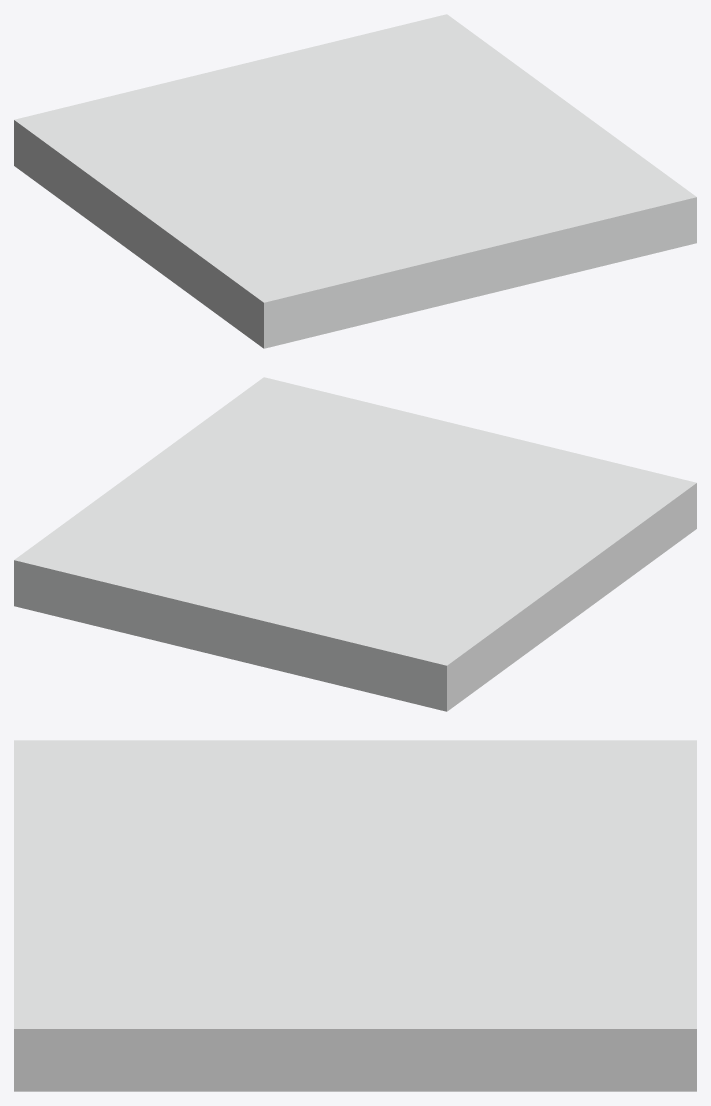
Rendered from Ceiling_Light.glb.
The picture shows the model from 3 angles, top to bottom: view 1: azimuth 30°, elevation 25°; view 2: azimuth 150°, elevation 25°; view 3: azimuth 270°, elevation 25°; orthographic projection. The views are drawn at different scales.
Parts seen in each view (by area): view 1: Ceiling_Light; view 2: Ceiling_Light; view 3: Ceiling_Light.
Part boxes in pixels (<box>): Ceiling_Light: <box>14,14,696,348</box>; Ceiling_Light: <box>14,377,696,711</box>; Ceiling_Light: <box>14,740,696,1091</box>.
Bounding box in the file's own units: 0.6081 × 0.0618 × 0.6081.
1 material, 1 textured.
